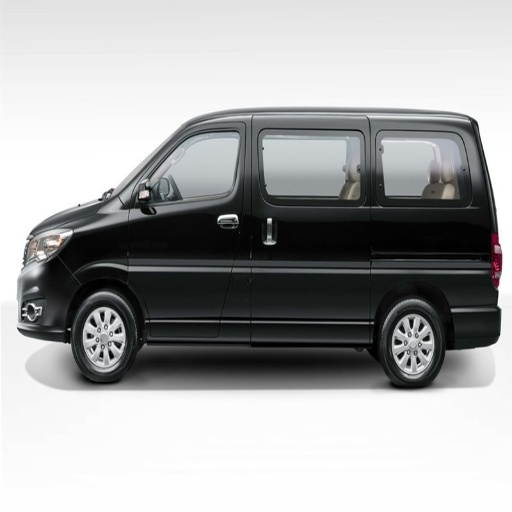back_left_door: (252, 118, 287, 256)
front_left_door: (130, 116, 250, 337)
front_left_light: (25, 228, 71, 266)
trunk: (380, 253, 487, 338)
